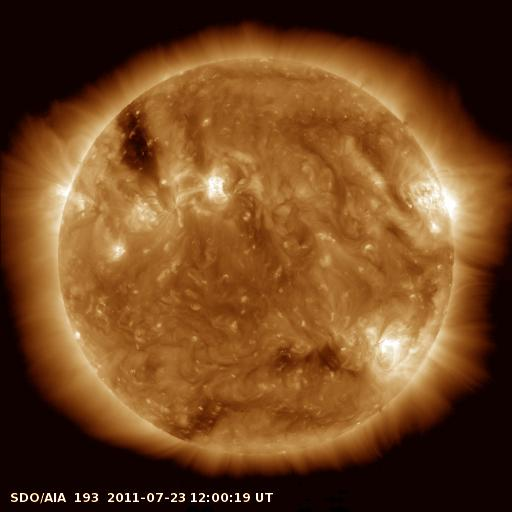coronal_hole: (110, 99, 167, 186)
